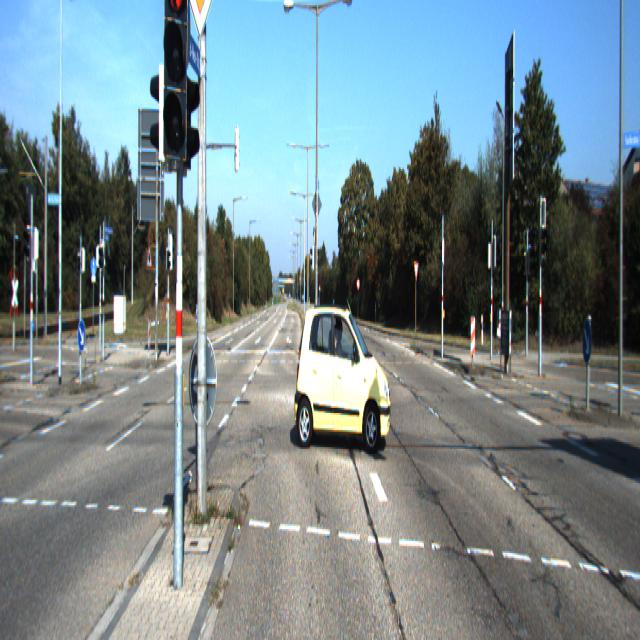Car: (293, 300, 391, 454)
